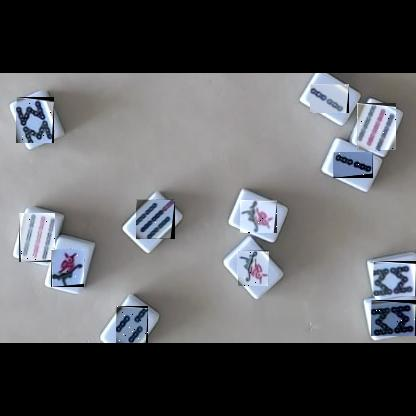1s: (51, 249, 84, 287), (240, 200, 277, 233), (237, 250, 269, 286)
2s: (310, 84, 349, 113), (333, 152, 373, 178)
3s: (116, 306, 148, 343)
7s: (136, 199, 175, 239)
8s: (16, 97, 54, 143), (371, 300, 416, 336), (373, 261, 416, 296)
9s: (357, 103, 396, 150), (19, 213, 55, 262)
